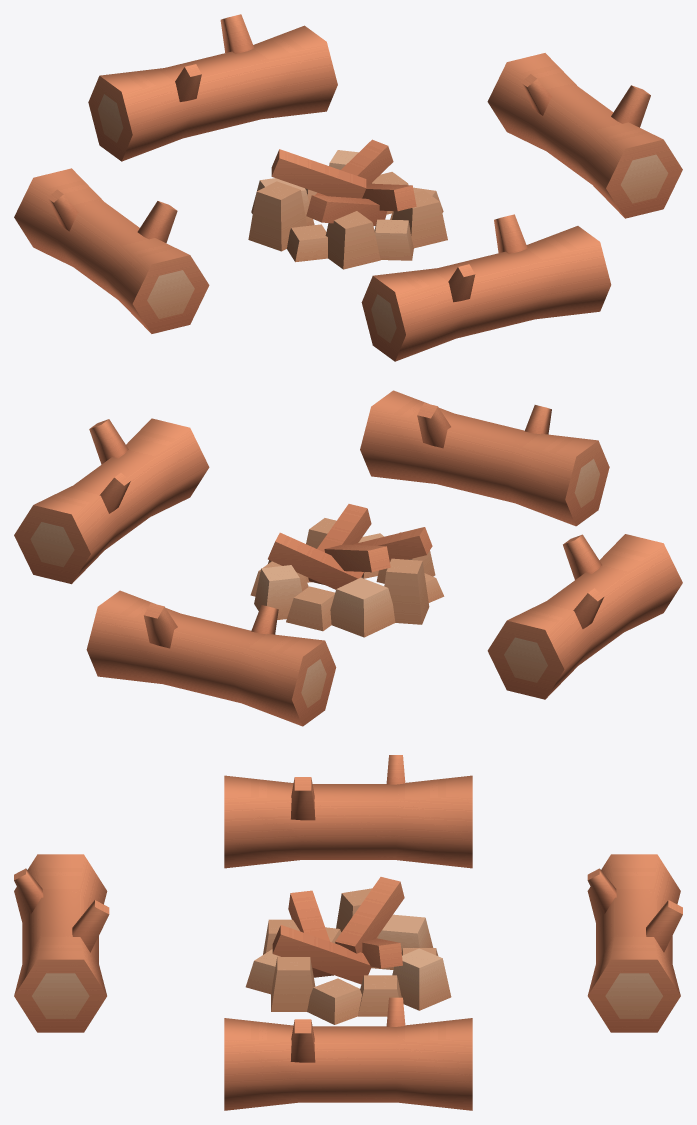
The model's file is fire.glb.
3 renders of one model, top to bottom at view 1: azimuth 30°, elevation 25°; view 2: azimuth 150°, elevation 25°; view 3: azimuth 270°, elevation 25°, orthographic. The views are drawn at different scales.
Parts seen in each view (by area): view 1: fire; view 2: fire; view 3: fire.
Boxes of the visible parts, bbox=[...] form: fire: bbox=[14, 14, 682, 361]; fire: bbox=[14, 390, 682, 726]; fire: bbox=[14, 755, 682, 1110].
Bounding box in the file's own units: 10.5 × 1.66 × 10.5.
Materials: 5 (5 with a texture image).
